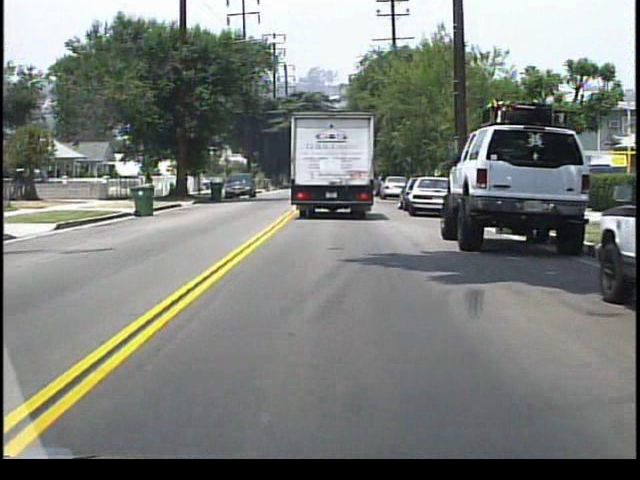person: (144, 170, 155, 198)
